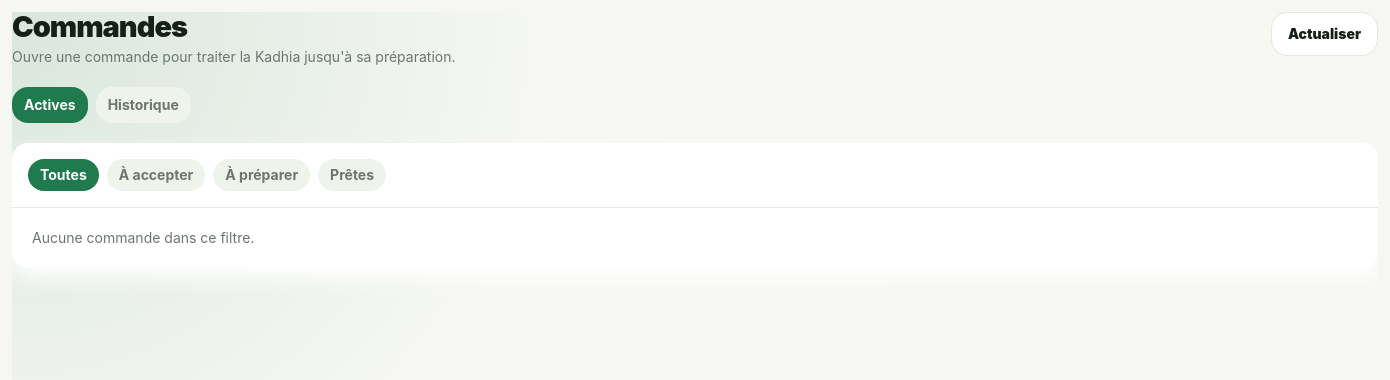
Test case: MerchantOrdersPage › loads history with pickup statuses when the merchant opens Historique
This screenshot has width=1390, height=380.
Click the tab "Historique": (143, 105) [96, 87, 191, 123]
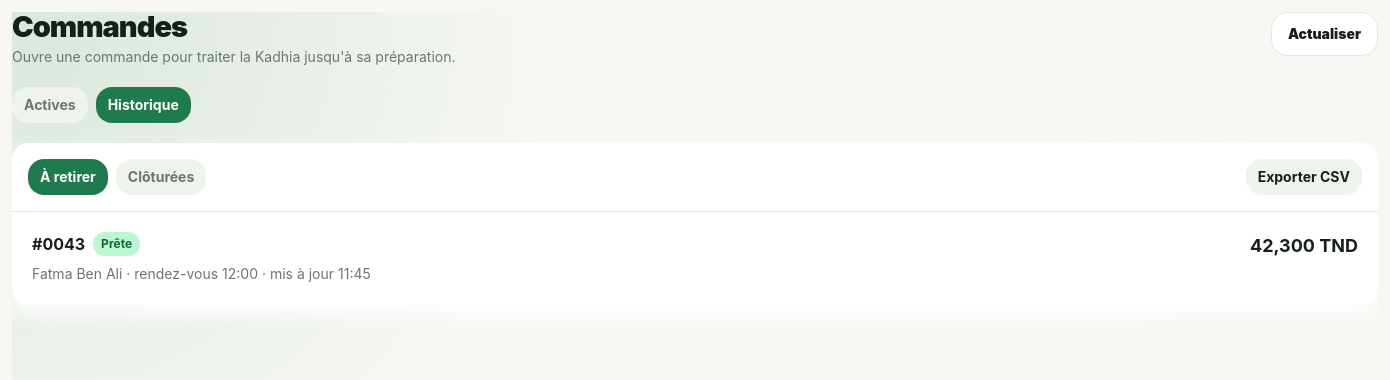
Check: the tab "À retirer" is shown, box [28, 159, 108, 195]
Check: the tab "Clôturées" is shown, box [116, 159, 206, 195]
Check: the text "#0043" is shown, box [32, 232, 85, 256]
